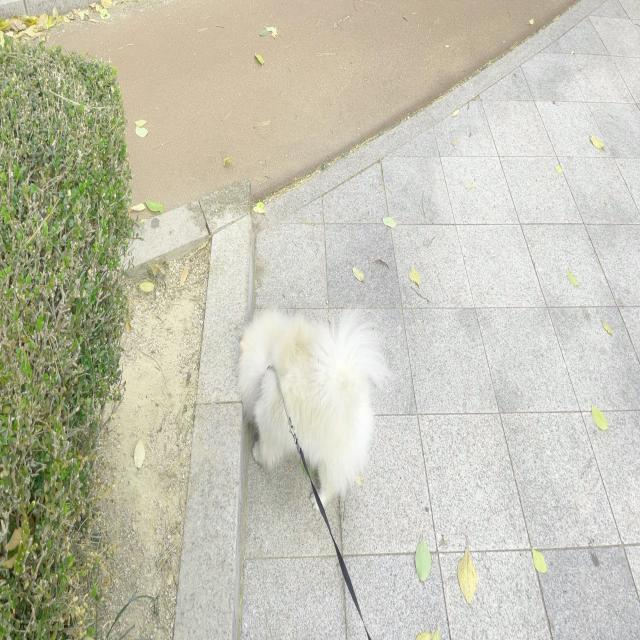Dog: (238, 308, 393, 512)
